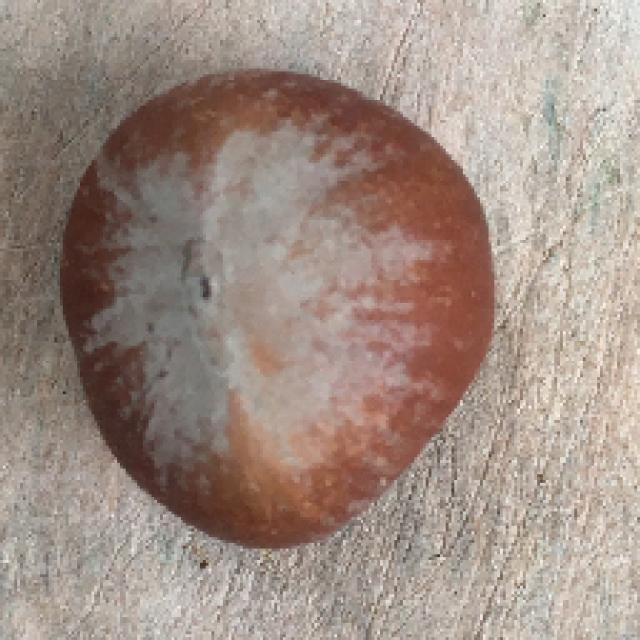qualityHazelnut: (58, 60, 503, 557)
